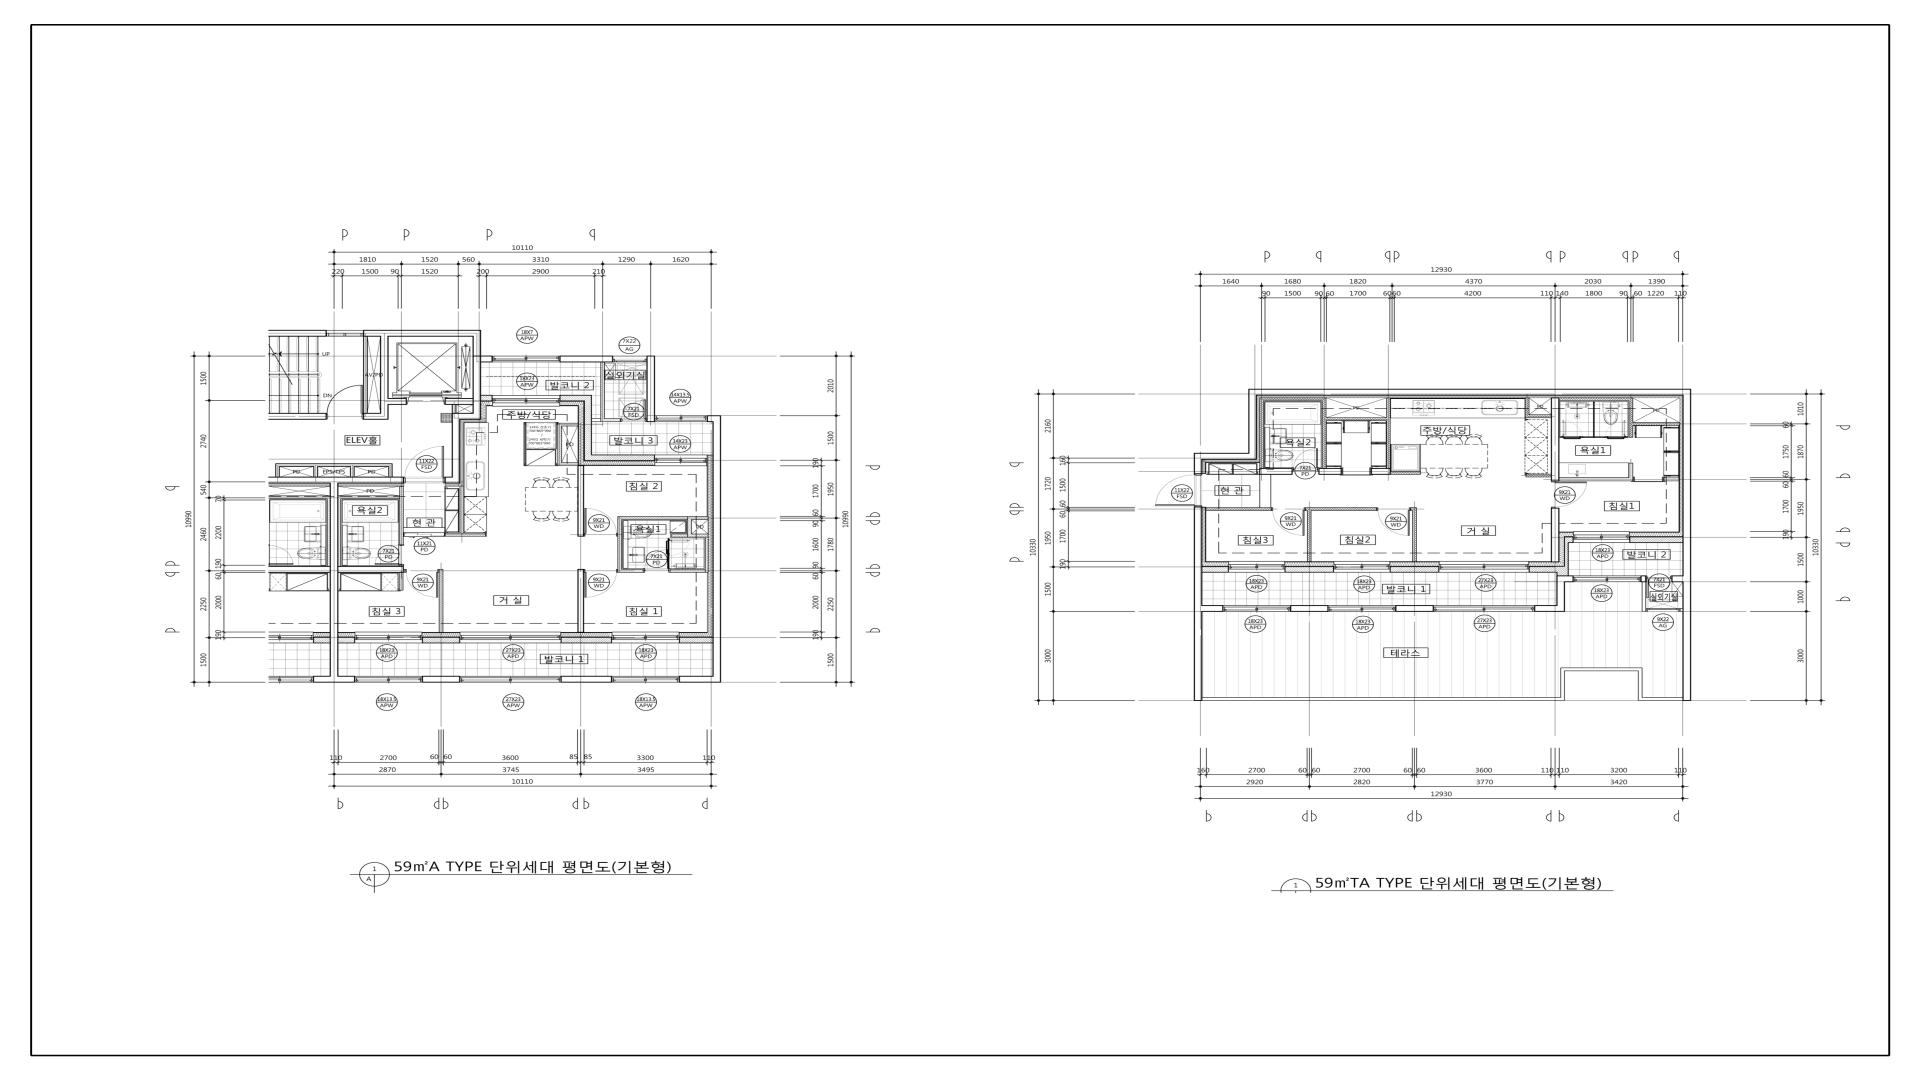door: (403, 446, 445, 483), (1155, 474, 1202, 507), (326, 385, 364, 420), (1376, 507, 1410, 536), (1271, 507, 1305, 536), (405, 569, 439, 598), (584, 569, 618, 598), (1551, 481, 1587, 508), (584, 508, 617, 536), (643, 549, 670, 573), (1293, 448, 1319, 472), (620, 399, 647, 422), (375, 544, 404, 565), (1646, 576, 1672, 599), (1562, 420, 1583, 438), (1605, 420, 1626, 438), (404, 532, 445, 537)
wall: (1257, 389, 1691, 396), (1683, 396, 1691, 701), (713, 415, 721, 676), (330, 483, 338, 683), (1194, 507, 1202, 701), (363, 330, 481, 337), (268, 477, 404, 483), (380, 337, 389, 420), (472, 337, 481, 420), (1551, 398, 1559, 481), (646, 356, 655, 422), (1248, 389, 1257, 453), (452, 420, 460, 483), (577, 466, 584, 537), (584, 401, 592, 461), (275, 463, 393, 467), (338, 566, 404, 573), (577, 569, 584, 632), (1551, 508, 1559, 562), (268, 330, 327, 337), (268, 413, 326, 420), (1202, 453, 1257, 460), (363, 337, 368, 413), (592, 455, 655, 461), (1630, 536, 1683, 543), (561, 676, 612, 683), (1386, 397, 1391, 468), (1259, 398, 1264, 468), (1390, 566, 1439, 573), (1285, 566, 1334, 573), (1322, 401, 1327, 468), (560, 356, 613, 362), (561, 637, 612, 643), (600, 362, 605, 422), (1559, 477, 1633, 481), (679, 676, 721, 683), (399, 486, 404, 544), (1305, 507, 1376, 511), (617, 516, 687, 520), (1395, 605, 1434, 612), (1556, 582, 1565, 612), (1290, 605, 1328, 612), (422, 676, 460, 683), (617, 520, 622, 573), (1206, 507, 1271, 511), (439, 569, 443, 632), (1412, 511, 1417, 561), (1529, 566, 1564, 573), (1326, 417, 1386, 421), (1259, 468, 1293, 475), (422, 637, 460, 643), (1559, 398, 1633, 401), (679, 637, 713, 643), (338, 499, 341, 566), (1307, 511, 1311, 561), (445, 398, 473, 405), (560, 395, 592, 401), (1633, 422, 1680, 426), (460, 486, 464, 533), (1264, 398, 1326, 401), (338, 496, 399, 499), (1202, 566, 1228, 573), (557, 426, 562, 462), (1318, 468, 1342, 475), (1194, 453, 1202, 474), (1534, 605, 1557, 612), (1564, 543, 1569, 575), (1629, 401, 1633, 438), (1202, 605, 1223, 612), (452, 413, 473, 420), (1371, 468, 1391, 475), (670, 569, 705, 573), (388, 398, 407, 405), (445, 533, 486, 536), (1391, 471, 1421, 475), (1642, 582, 1646, 612), (338, 676, 355, 683), (364, 413, 380, 420), (1556, 576, 1574, 582), (705, 537, 708, 573), (338, 637, 355, 643), (1529, 414, 1551, 418), (687, 516, 708, 520), (622, 569, 643, 573), (557, 462, 578, 466), (1525, 398, 1529, 418), (1672, 575, 1683, 582), (1526, 474, 1551, 477), (1628, 463, 1633, 477), (687, 520, 692, 534), (399, 573, 403, 590), (481, 356, 492, 362), (481, 395, 492, 401), (1564, 536, 1573, 543), (687, 534, 708, 537), (557, 423, 578, 426), (605, 418, 620, 422), (275, 467, 280, 477), (313, 467, 318, 477), (350, 467, 355, 477), (388, 467, 393, 477), (1663, 478, 1679, 481), (672, 534, 687, 537), (1583, 436, 1605, 438), (445, 477, 452, 483), (707, 415, 713, 422), (592, 418, 601, 422), (1641, 575, 1646, 582), (1593, 402, 1594, 436), (452, 405, 456, 413), (1410, 507, 1417, 511), (1556, 573, 1564, 576), (1680, 608, 1683, 612), (404, 569, 405, 573)
window: (460, 632, 561, 643), (1439, 561, 1529, 573), (492, 395, 560, 407), (612, 632, 679, 643), (355, 632, 422, 643), (1434, 605, 1534, 612), (1573, 531, 1630, 543), (1228, 561, 1285, 572), (1334, 561, 1390, 572), (460, 676, 561, 682), (655, 455, 707, 466), (1223, 605, 1290, 612), (1328, 605, 1395, 612), (355, 676, 422, 683), (1573, 576, 1641, 582), (492, 356, 560, 362), (612, 676, 679, 682), (655, 415, 707, 422), (327, 330, 363, 336), (613, 356, 647, 362), (1646, 608, 1680, 612)
